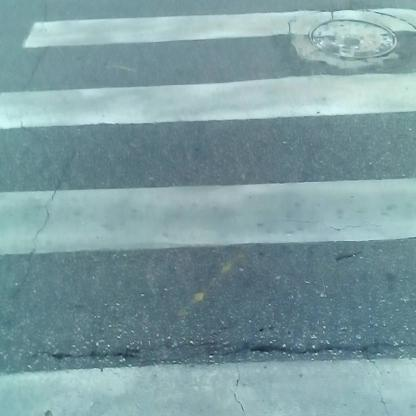crosswalk: (15, 18, 407, 408)
